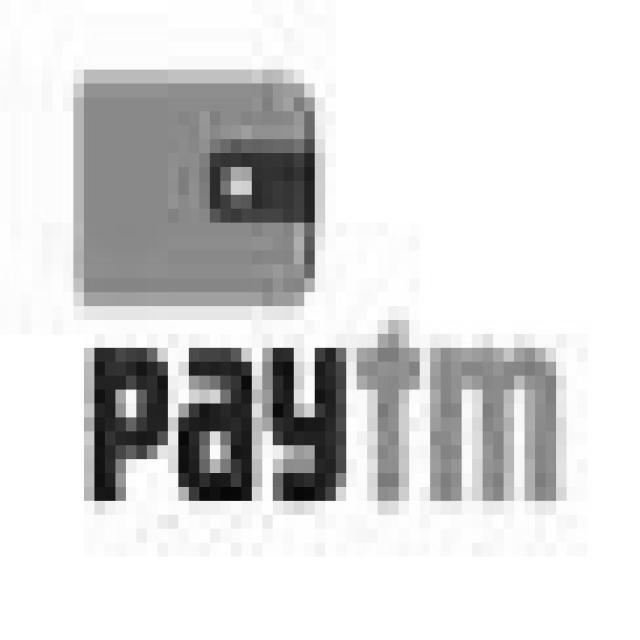fully_visible: (66, 319, 594, 545)
